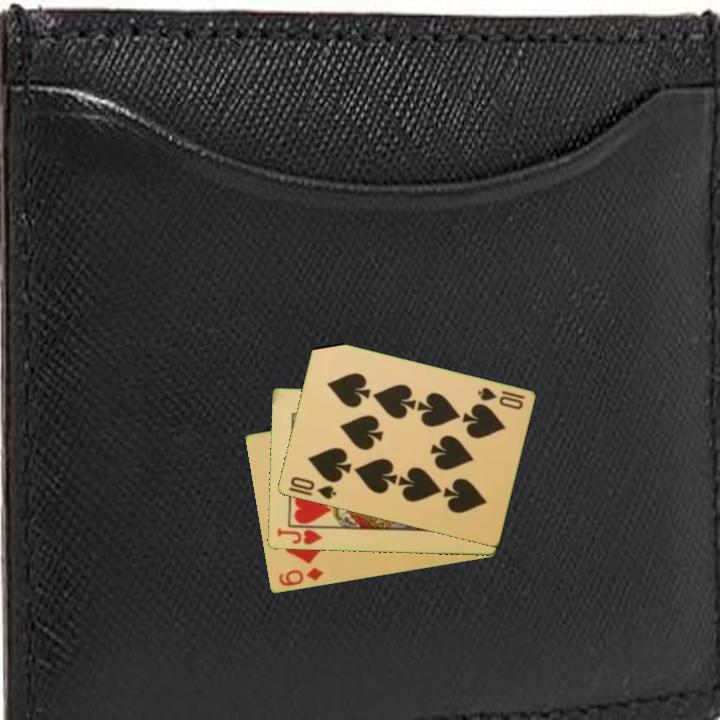10s: (473, 384, 528, 413), (285, 473, 339, 502)
6d: (275, 564, 326, 589)
Jh: (274, 525, 325, 548)
